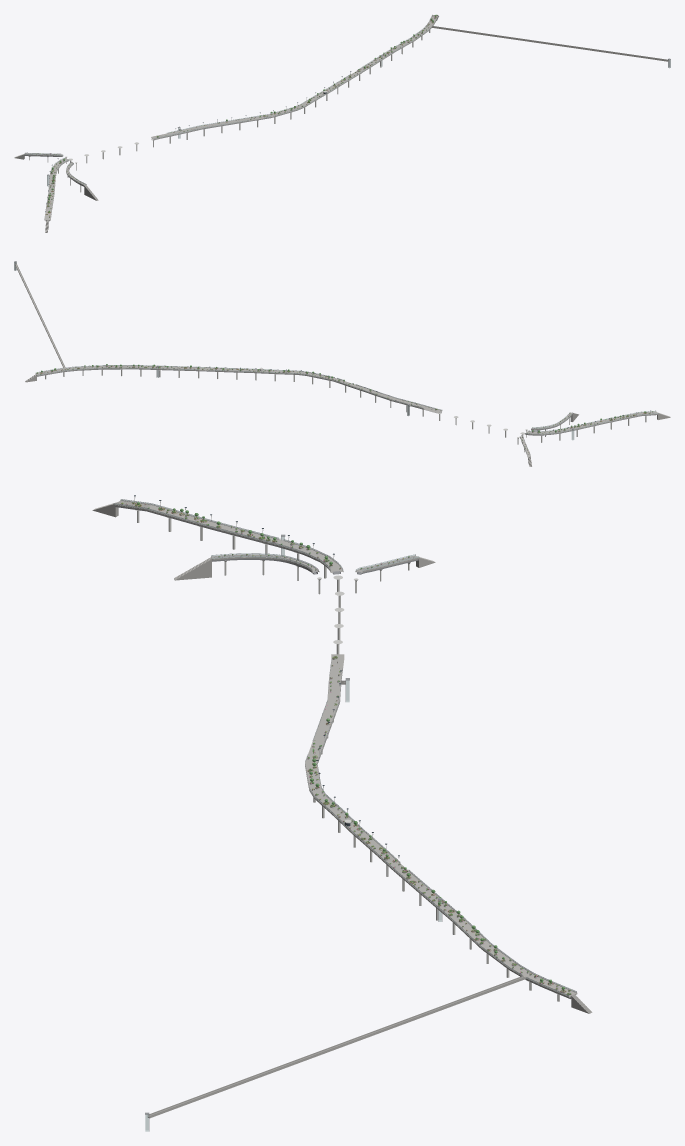
The model's file is seoullo_p.glb.
3 views of the same model, one above another, from view 1: azimuth 30°, elevation 25°; view 2: azimuth 150°, elevation 25°; view 3: azimuth 270°, elevation 25° (orthographic). The views are drawn at different scales.
Visible parts, largest first — view 1: SL_Deck, SL_Parapet_Glass, SL_Elevator_Bridges, SL_Curb_Upstand, SL_Piers, SL_Plants; view 2: SL_Deck, SL_Parapet_Glass, SL_Curb_Upstand, SL_Piers, SL_Girders, SL_Plants; view 3: SL_Deck, SL_Parapet_Glass, SL_Elevator_Bridges, SL_Curb_Upstand, SL_Piers, SL_Plants, SL_End_Stairs, SL_Planters.
Part boxes in pixels (bbox=[...]): SL_Deck: bbox=[24, 15, 438, 220]; SL_Parapet_Glass: bbox=[24, 15, 438, 184]; SL_Elevator_Bridges: bbox=[49, 26, 668, 176]; SL_Curb_Upstand: bbox=[24, 15, 438, 219]; SL_Piers: bbox=[29, 30, 430, 192]; SL_Plants: bbox=[40, 14, 437, 214]; SL_Deck: bbox=[35, 366, 658, 457]; SL_Parapet_Glass: bbox=[36, 365, 658, 450]; SL_Curb_Upstand: bbox=[38, 365, 658, 456]; SL_Piers: bbox=[45, 369, 647, 459]; SL_Girders: bbox=[37, 369, 657, 435]; SL_Plants: bbox=[37, 364, 652, 449]; SL_Deck: bbox=[113, 500, 577, 997]; SL_Parapet_Glass: bbox=[114, 499, 576, 996]; SL_Elevator_Bridges: bbox=[148, 538, 529, 1118]; SL_Curb_Upstand: bbox=[113, 500, 576, 996]; SL_Piers: bbox=[134, 509, 559, 1001]; SL_Plants: bbox=[122, 502, 570, 994]; SL_End_Stairs: bbox=[92, 502, 592, 1013]; SL_Planters: bbox=[121, 503, 571, 995].
Size of the model in its own units: 1157 by 22.12 by 393.
